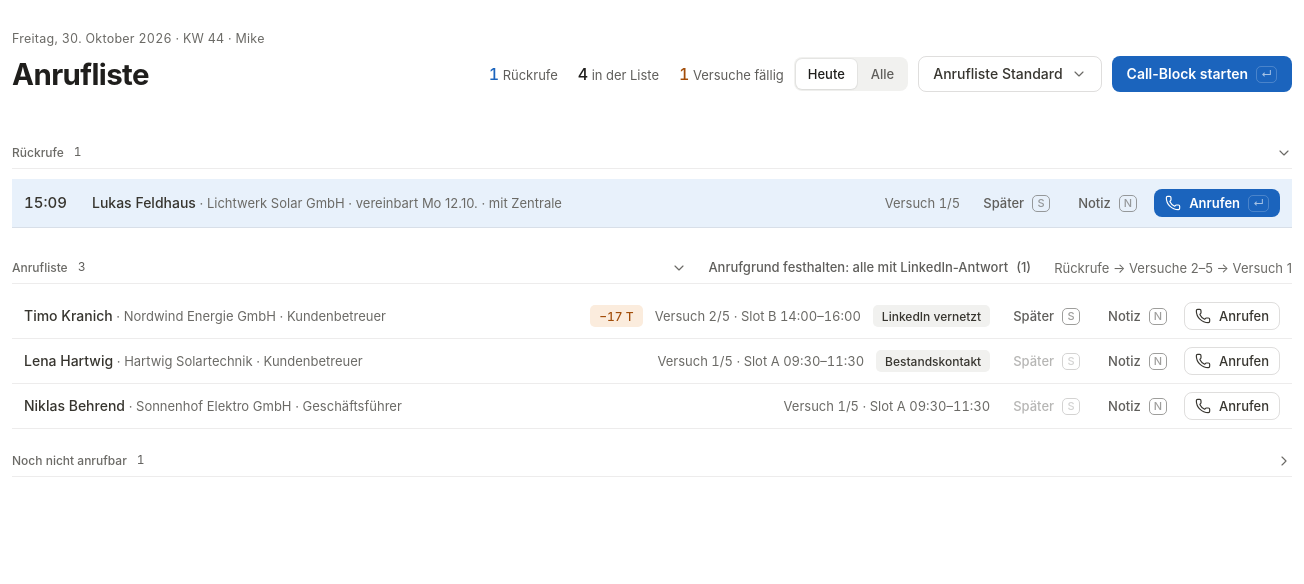
Test: TelefonSeite › zeigt Rückrufe → Anrufliste → „Noch nicht anrufbar“ mit Gründen, Zähler im Kopf
Check: the option that starts with "Lukas Feldhaus" is shown, box x1=12 y1=179 x2=1292 y2=228
Check: the option that starts with "Lukas Feldhaus" shows "mit Zentrale", box x1=12 y1=179 x2=1292 y2=228
Click the button "Noch nicht anrufbar 1" at (69, 460), box x1=12 y1=445 x2=1292 y2=476
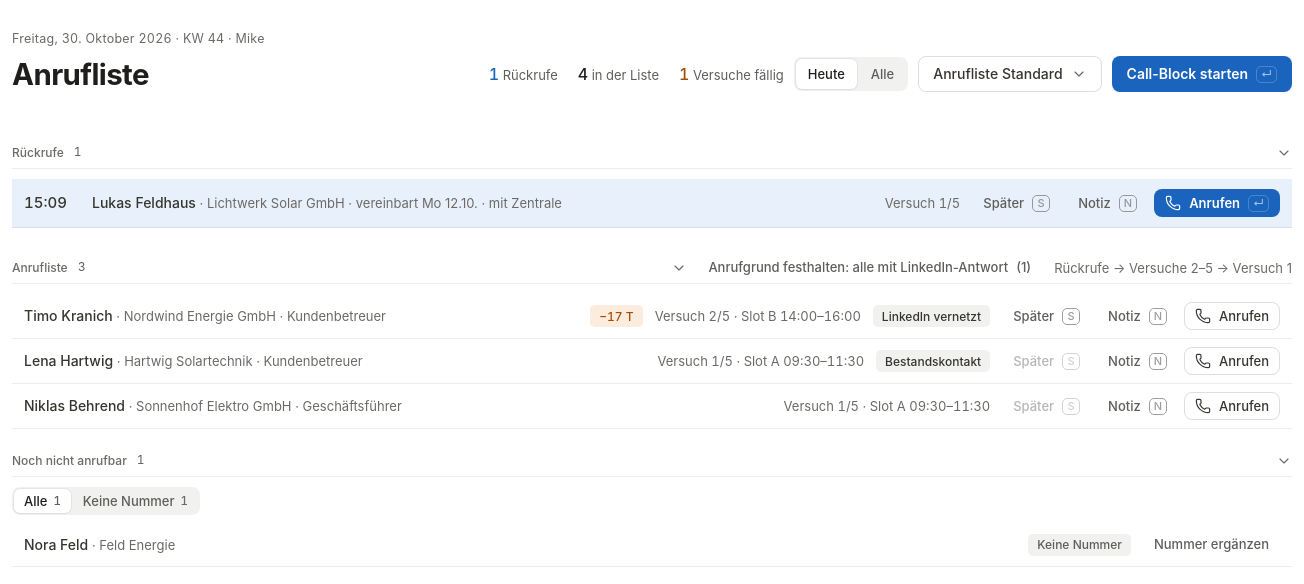
Check: the text "Keine Nummer" is shown, box x1=1037 y1=537 x2=1122 y2=552
Check: the button "Nummer ergänzen" is shown, box x1=1143 y1=531 x2=1280 y2=559
Check: the buttons read "Alle1", "Keine Nummer1", in this order, box x1=14 y1=489 x2=71 y2=513; x1=73 y1=489 x2=198 y2=513
